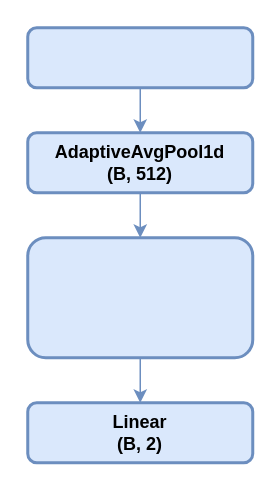
Image size: 279x489. Some labels were removed from this diagram. Each missing label, with the centre of its shape:
Mimi embeddings (B, T, 512): the point at 140,57
TransformerEncoder 1 layer 1 head 64 hidde_dim: the point at 140,297
